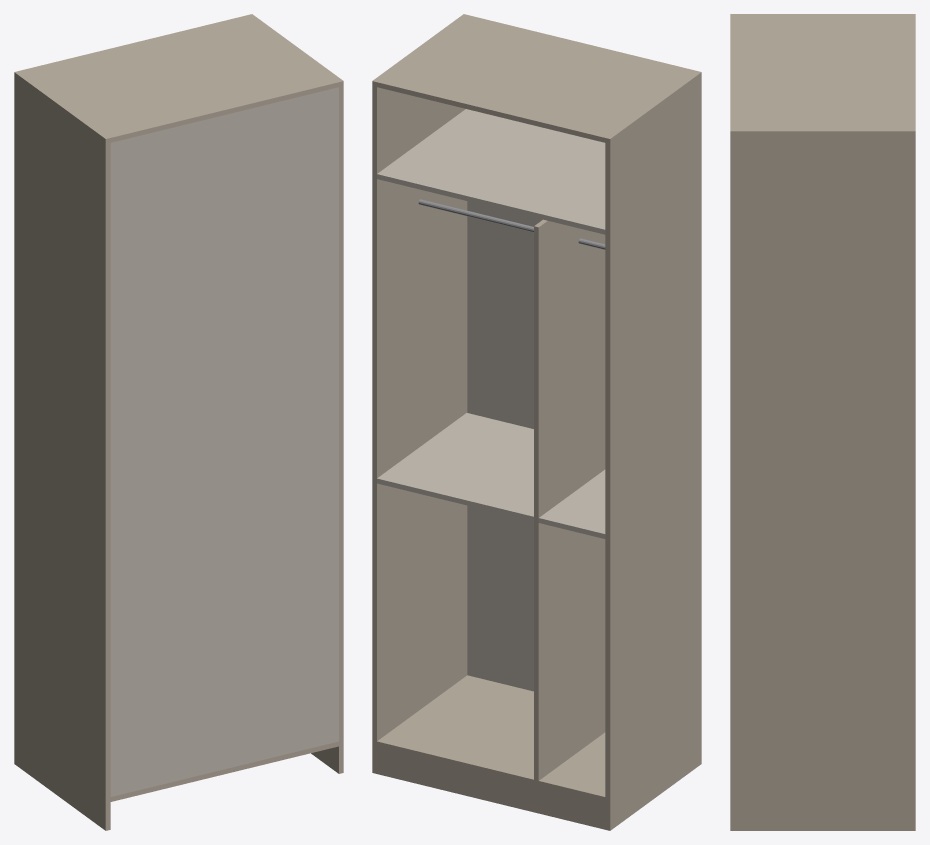
3 views of the same model, side by side, from view 1: azimuth 30°, elevation 25°; view 2: azimuth 150°, elevation 25°; view 3: azimuth 270°, elevation 25° (orthographic).
Parts seen in each view (by area): view 1: 004_ARKALIK, 000_GOVDE_SOL, 002_GOVDE_UST, 001_GOVDE_SAG, 003_GOVDE_ALT; view 2: 000_GOVDE_SOL, 001_GOVDE_SAG, 006_IC_DIKME, 004_ARKALIK, 002_GOVDE_UST, 008_RAF_2, 003_GOVDE_ALT, 007_RAF_1, 005_BAZA, 010_ASKILIK; view 3: 001_GOVDE_SAG, 002_GOVDE_UST, 000_GOVDE_SOL.
Boxes of the visible parts, bbox=[...] form: 004_ARKALIK: bbox=[110, 87, 338, 796]; 000_GOVDE_SOL: bbox=[14, 71, 110, 830]; 002_GOVDE_UST: bbox=[19, 15, 338, 142]; 001_GOVDE_SAG: bbox=[247, 14, 343, 773]; 003_GOVDE_ALT: bbox=[110, 741, 338, 801]; 000_GOVDE_SOL: bbox=[605, 71, 701, 830]; 001_GOVDE_SAG: bbox=[372, 14, 468, 773]; 006_IC_DIKME: bbox=[534, 219, 605, 780]; 004_ARKALIK: bbox=[467, 201, 542, 691]; 002_GOVDE_UST: bbox=[377, 15, 696, 142]; 008_RAF_2: bbox=[377, 109, 605, 234]; 003_GOVDE_ALT: bbox=[377, 675, 605, 801]; 007_RAF_1: bbox=[377, 413, 605, 538]; 005_BAZA: bbox=[377, 746, 605, 829]; 010_ASKILIK: bbox=[418, 199, 605, 249]; 001_GOVDE_SAG: bbox=[730, 129, 915, 830]; 002_GOVDE_UST: bbox=[730, 16, 915, 128]; 000_GOVDE_SOL: bbox=[730, 14, 915, 16].
Size of the model in its own units: 0.9 by 2.5 by 0.6.
